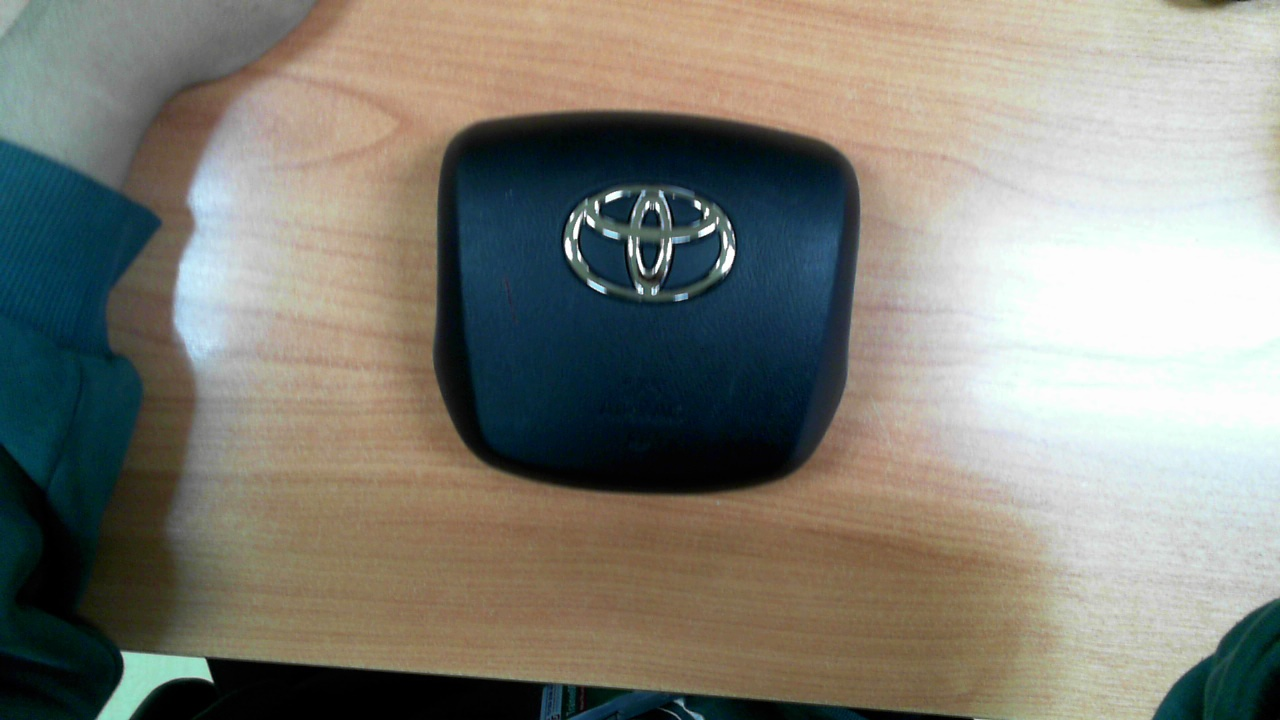Airbag: (432, 111, 862, 497)
Toyota: (564, 185, 736, 302)
